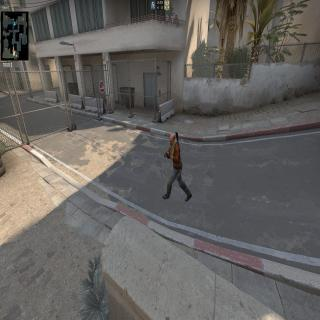T-Head: (168, 132, 176, 147)
